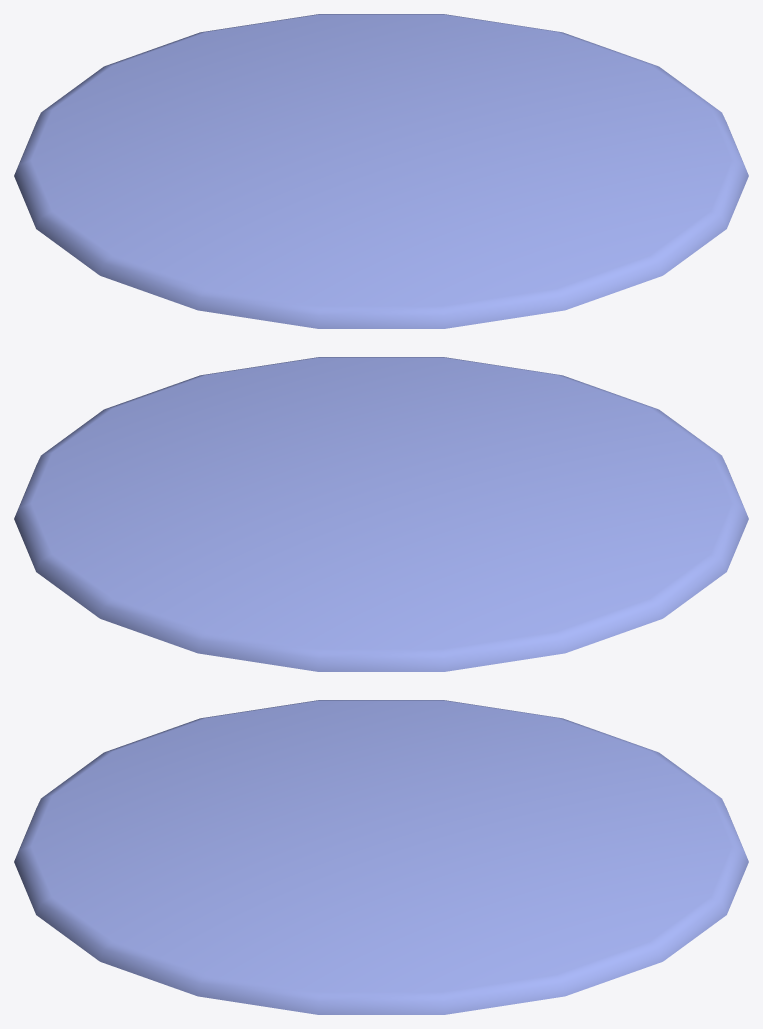
Rendered from SM_Sortholder.fbx.
The picture shows the model from 3 angles, top to bottom: view 1: azimuth 30°, elevation 25°; view 2: azimuth 150°, elevation 25°; view 3: azimuth 270°, elevation 25°; orthographic projection.
Parts seen in each view (by area): view 1: SM_Stackholder; view 2: SM_Stackholder; view 3: SM_Stackholder.
Part boxes in pixels (x1,y1,x2,y2): SM_Stackholder: (14,14,748,328); SM_Stackholder: (14,357,748,671); SM_Stackholder: (14,700,748,1014).
Size of the model in its own units: 113 by 2.68 by 115.
